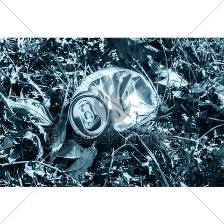can: (63, 60, 163, 140)
